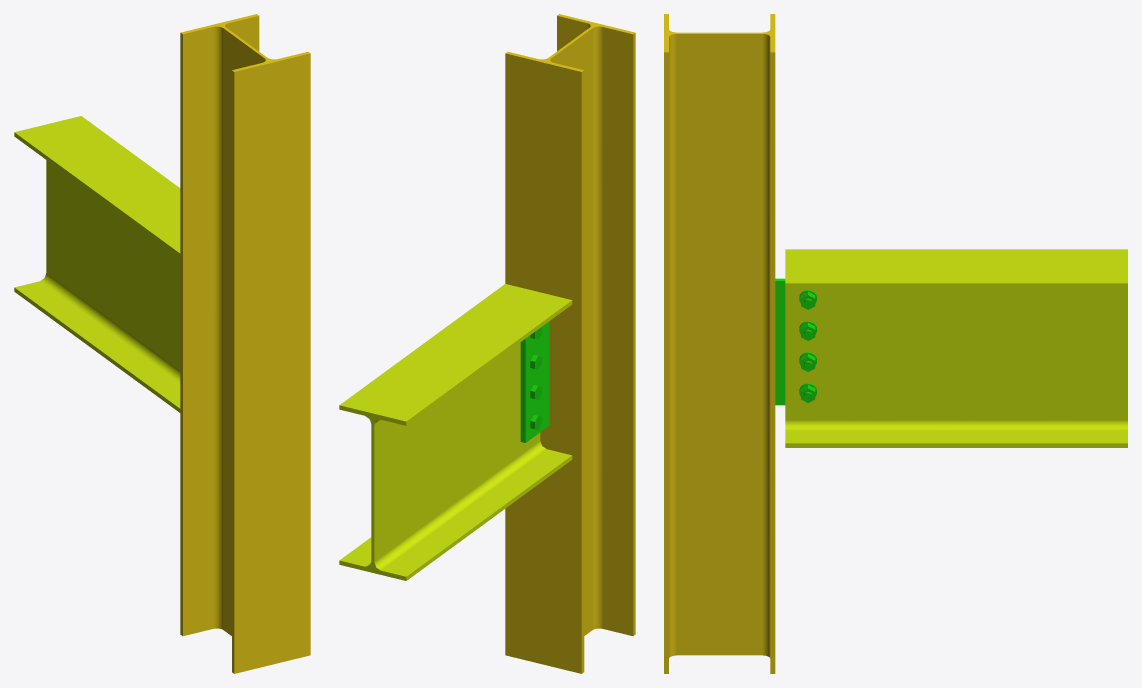
File: 1-Full Model Shear Tab.glb
3 views of the same model, side by side, from view 1: azimuth 30°, elevation 25°; view 2: azimuth 150°, elevation 25°; view 3: azimuth 270°, elevation 25° (orthographic). The views are drawn at different scales.
Parts seen in each view (by area): view 1: W-Wide Flange-Column W10X33 (1) [1245414], W-Wide Flange W16X36 (1) [1518880]; view 2: W-Wide Flange-Column W10X33 (1) [1245414], W-Wide Flange W16X36 (1) [1518880], [1714889], [1714891]; view 3: W-Wide Flange-Column W10X33 (1) [1245414], W-Wide Flange W16X36 (1) [1518880], [1714889], [1714891].
Part boxes in pixels (bbox=[...]): W-Wide Flange-Column W10X33 (1) [1245414]: bbox=[180, 14, 310, 673]; W-Wide Flange W16X36 (1) [1518880]: bbox=[14, 116, 180, 412]; W-Wide Flange-Column W10X33 (1) [1245414]: bbox=[505, 14, 635, 673]; W-Wide Flange W16X36 (1) [1518880]: bbox=[339, 284, 572, 580]; [1714889]: bbox=[520, 321, 549, 442]; [1714891]: bbox=[530, 327, 541, 430]; W-Wide Flange-Column W10X33 (1) [1245414]: bbox=[664, 14, 775, 673]; W-Wide Flange W16X36 (1) [1518880]: bbox=[785, 249, 1127, 447]; [1714889]: bbox=[775, 278, 785, 405]; [1714891]: bbox=[799, 290, 816, 402].
Bounding box in the file's own units: 0.2022 × 1.52 × 1.03.
